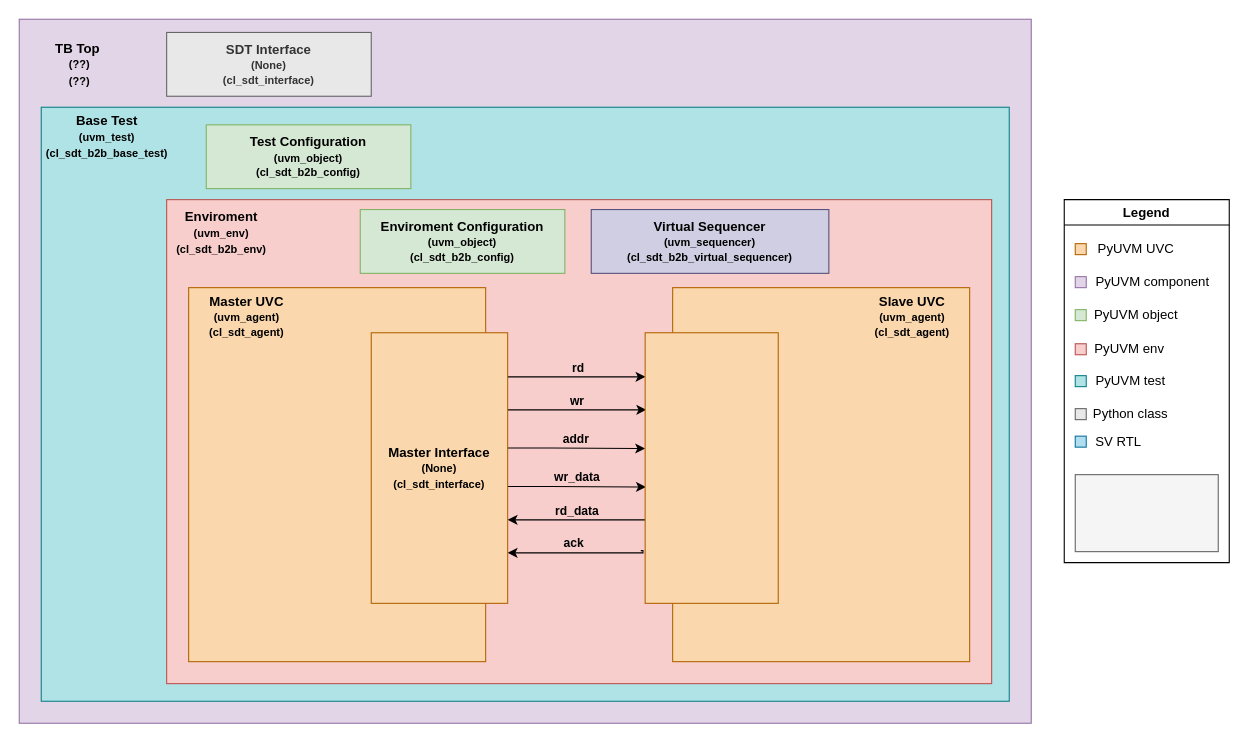
This 1249x743 diagram has some shape labels left out. Here are the shapes that lost their labels. From the top down, the box of each, then its label:
(644, 332, 778, 603): Slave Interface (None) (cl_sdt_interface)
(1074, 474, 1218, 552): <Abstract Name> (<Derived from Class>) (<Class Name>)
